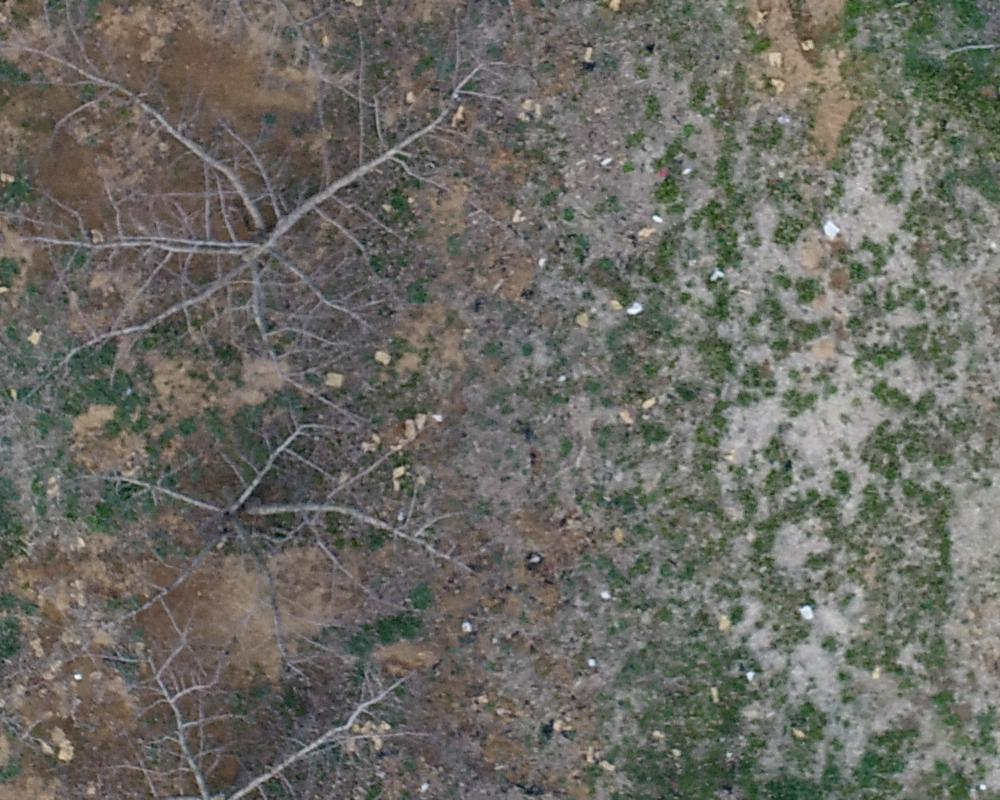apple: (16, 44, 477, 400), (54, 418, 483, 620), (29, 632, 506, 790)
